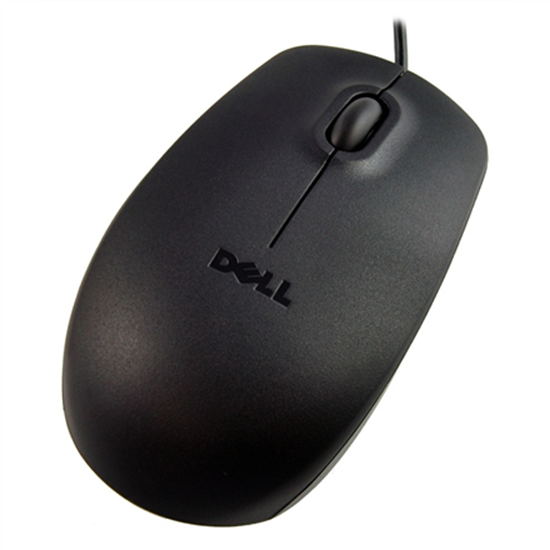dell-mouse-ms116: (59, 22, 485, 529)
